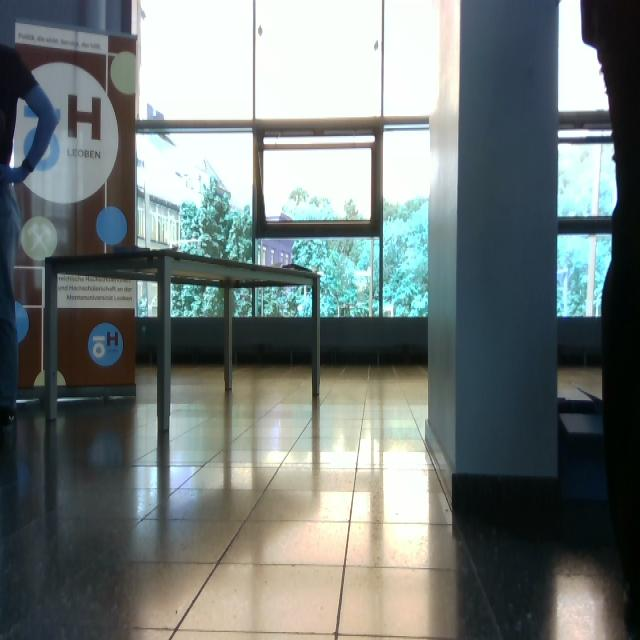person: (1, 45, 59, 426)
table: (44, 249, 320, 432)
tiled floor: (1, 368, 627, 640)
tree: (255, 198, 429, 317), (181, 173, 253, 262), (559, 230, 610, 318), (269, 189, 362, 220), (235, 286, 312, 317), (172, 286, 224, 317), (559, 178, 592, 218), (600, 188, 612, 216)
window: (137, 1, 440, 317), (560, 1, 616, 228), (559, 230, 610, 317), (236, 288, 311, 317), (171, 285, 221, 317), (140, 282, 159, 317)
